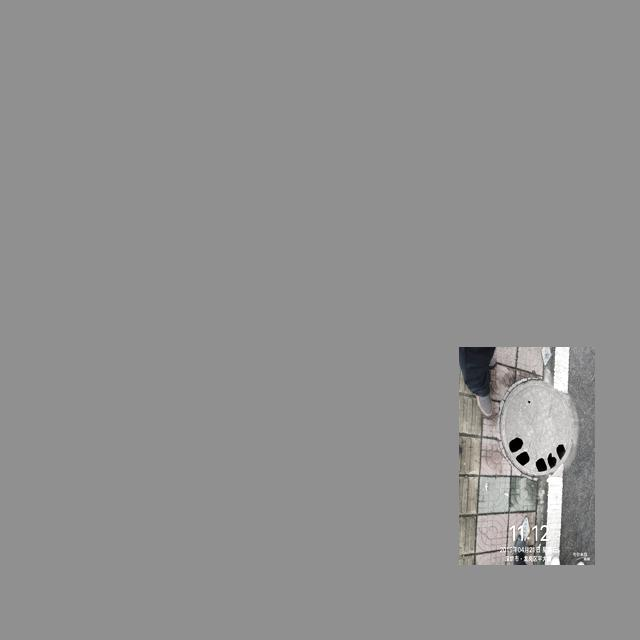broke: (497, 375, 580, 481)
